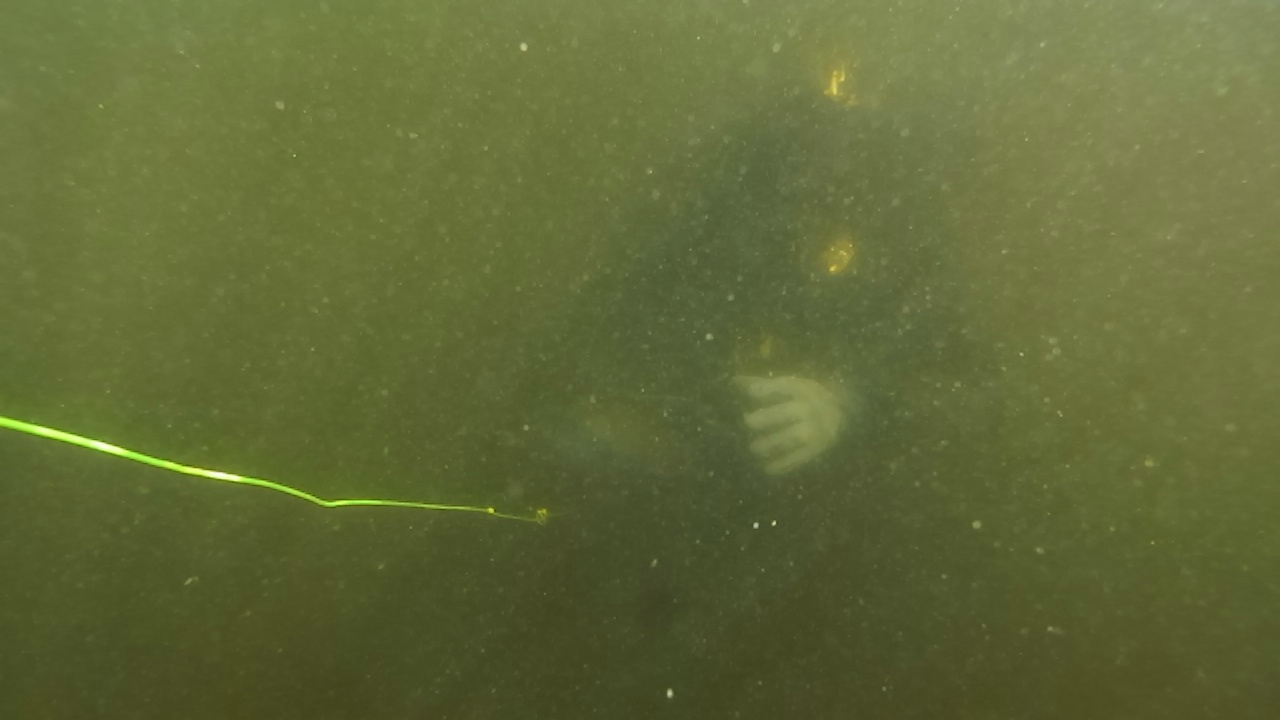Diver: (502, 78, 1062, 524)
Hand: (710, 354, 866, 490)
